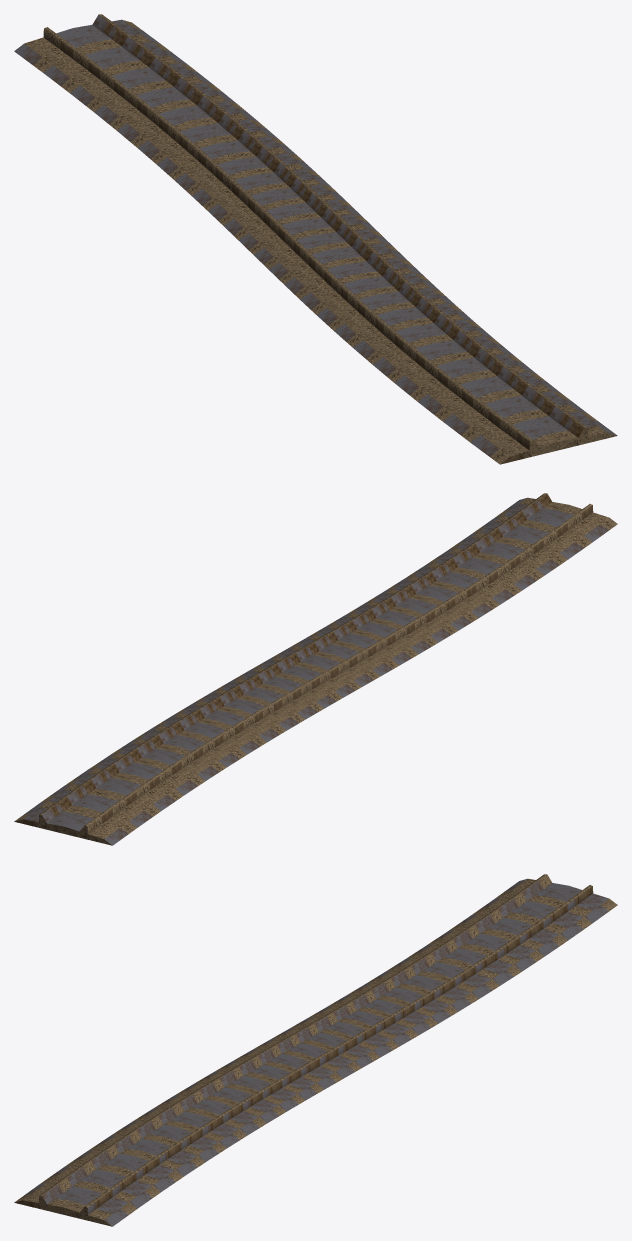
The model's file is rail bend to right slim_LOD2.fbx.
3 renders of one model, top to bottom at view 1: azimuth 30°, elevation 25°; view 2: azimuth 150°, elevation 25°; view 3: azimuth 330°, elevation 25°, orthographic. The views are drawn at different scales.
Parts seen in each view (by area): view 1: rail_bend_to_right_slim; view 2: rail_bend_to_right_slim; view 3: rail_bend_to_right_slim.
Part boxes in pixels (x1,y1,x2,y2): rail_bend_to_right_slim: [14, 14, 617, 464]; rail_bend_to_right_slim: [14, 493, 617, 845]; rail_bend_to_right_slim: [14, 874, 617, 1226].
Size of the model in its own units: 150 by 13.15 by 800.
Materials: 1 (1 with a texture image).
